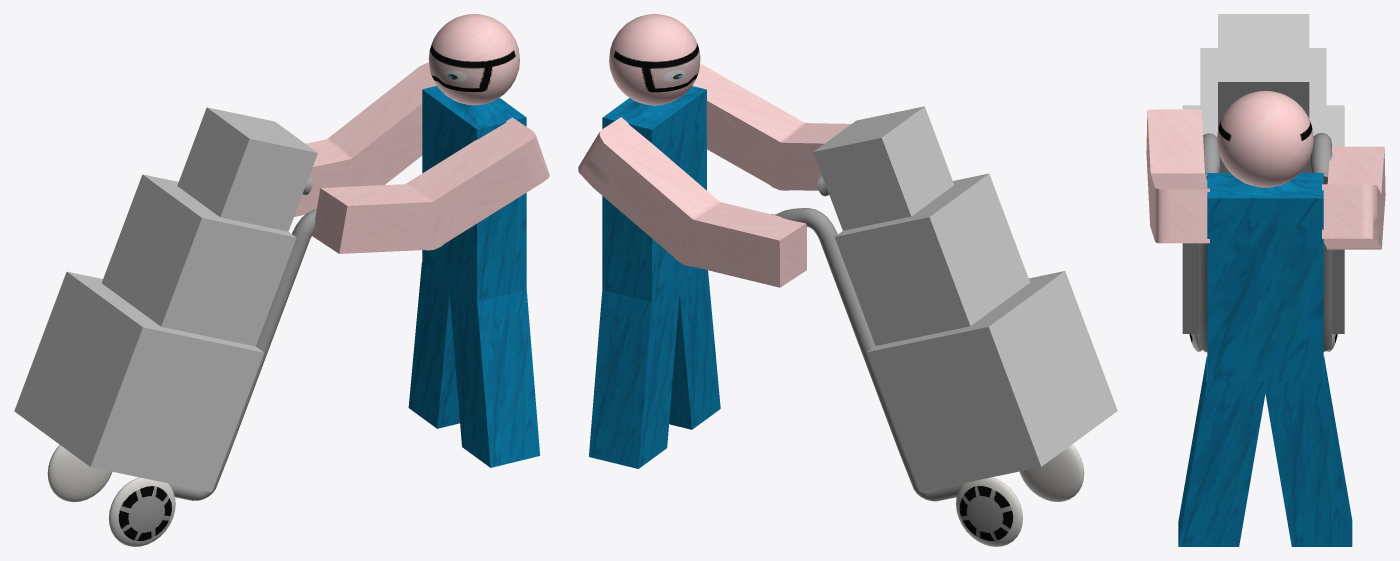
Rendered from Boxes+man.FBX.
3 renders of one model, left to right at view 1: azimuth 30°, elevation 25°; view 2: azimuth 150°, elevation 25°; view 3: azimuth 270°, elevation 25°, orthographic. The views are drawn at different scales.
Parts seen in each view (by area): view 1: Box002, Box001, Box004, Box003, Box006, Box007, Box008, Sphere003, Box010, Box005, Sphere001, Cylinder001 (+4 smaller); view 2: Box002, Box001, Box005, Box003, Box006, Box010, Box009, Sphere003, Box007, Box004, Cylinder002, Sphere002 (+4 smaller); view 3: Box006, Box005, Box004, Box003, Sphere003, Box007, Box010, Box008, Box002, Box001, Box009, Cylinder002 (+1 smaller).
Boxes of the visible parts, x1=… form: Box002: x1=14, y1=271, x2=263, y2=492; Box001: x1=102, y1=174, x2=296, y2=346; Box004: x1=449, y1=283, x2=540, y2=467; Box003: x1=177, y1=107, x2=317, y2=231; Box006: x1=422, y1=86, x2=526, y2=302; Box007: x1=406, y1=117, x2=549, y2=242; Box008: x1=312, y1=184, x2=433, y2=253; Sphere003: x1=428, y1=14, x2=519, y2=105; Box010: x1=328, y1=62, x2=436, y2=185; Box005: x1=408, y1=262, x2=459, y2=428; Sphere001: x1=108, y1=477, x2=175, y2=546; Cylinder001: x1=168, y1=209, x2=316, y2=500; Box002: x1=867, y1=271, x2=1117, y2=491; Box001: x1=834, y1=173, x2=1029, y2=345; Box005: x1=589, y1=282, x2=680, y2=468; Box003: x1=813, y1=106, x2=954, y2=230; Box006: x1=602, y1=86, x2=706, y2=302; Box010: x1=578, y1=117, x2=718, y2=256; Box009: x1=693, y1=202, x2=806, y2=287; Sphere003: x1=609, y1=14, x2=700, y2=105; Box007: x1=692, y1=64, x2=803, y2=184; Box004: x1=669, y1=268, x2=720, y2=429; Cylinder002: x1=770, y1=208, x2=964, y2=501; Sphere002: x1=956, y1=477, x2=1022, y2=546; Box006: x1=1207, y1=173, x2=1323, y2=381; Box005: x1=1263, y1=356, x2=1352, y2=546; Box004: x1=1178, y1=356, x2=1265, y2=546; Box003: x1=1218, y1=14, x2=1309, y2=129; Sphere003: x1=1217, y1=90, x2=1313, y2=187; Box007: x1=1150, y1=173, x2=1209, y2=243; Box010: x1=1322, y1=184, x2=1381, y2=248; Box008: x1=1146, y1=109, x2=1204, y2=213; Box002: x1=1182, y1=105, x2=1344, y2=333; Box001: x1=1200, y1=48, x2=1326, y2=172; Box009: x1=1327, y1=146, x2=1385, y2=239; Cylinder002: x1=1310, y1=132, x2=1332, y2=351.
Size of the model in its own units: 140 by 120 by 59.07.
